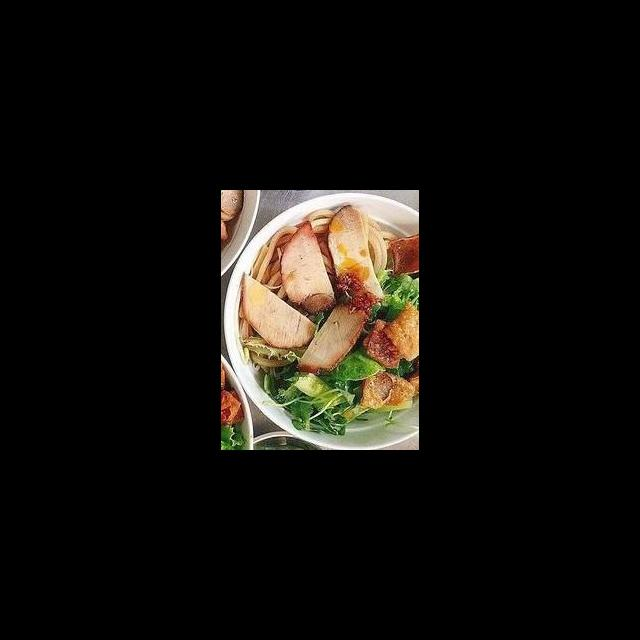banh da: (380, 299, 419, 363), (358, 370, 417, 412), (360, 317, 404, 370), (385, 231, 419, 276)
mi: (248, 224, 303, 303), (304, 207, 343, 279), (361, 216, 400, 286)
mi quang: (229, 201, 419, 446)
thit heo: (239, 269, 321, 351), (323, 203, 387, 306), (294, 300, 374, 377), (276, 219, 339, 315)
